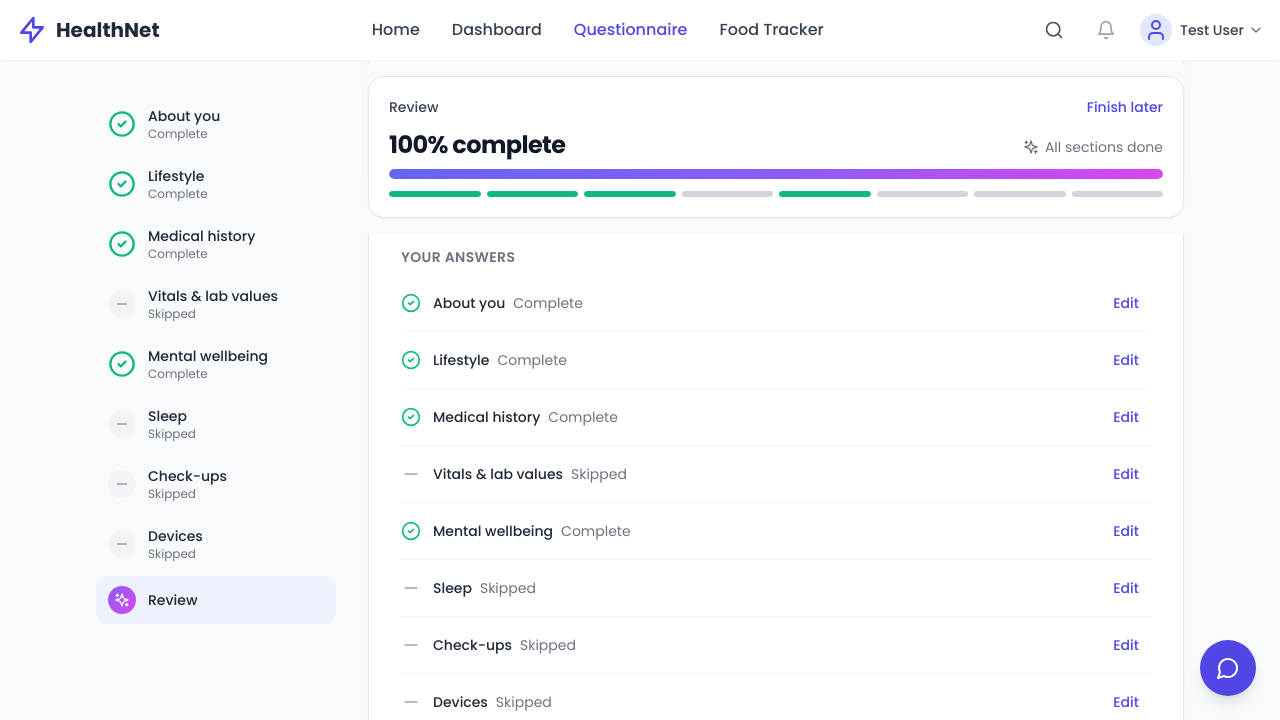
Test: finished questionnaires open on the review step
(page scrolled)
Expected: the text "100% complete" is shown, [389,129,565,161]
What coordinates should you click on to do the following:
click the button with aria-label "Edit: Lifestyle"
I would click on:
 (1126, 360)
Its box is [1101,344,1151,376].
(page scrolled)
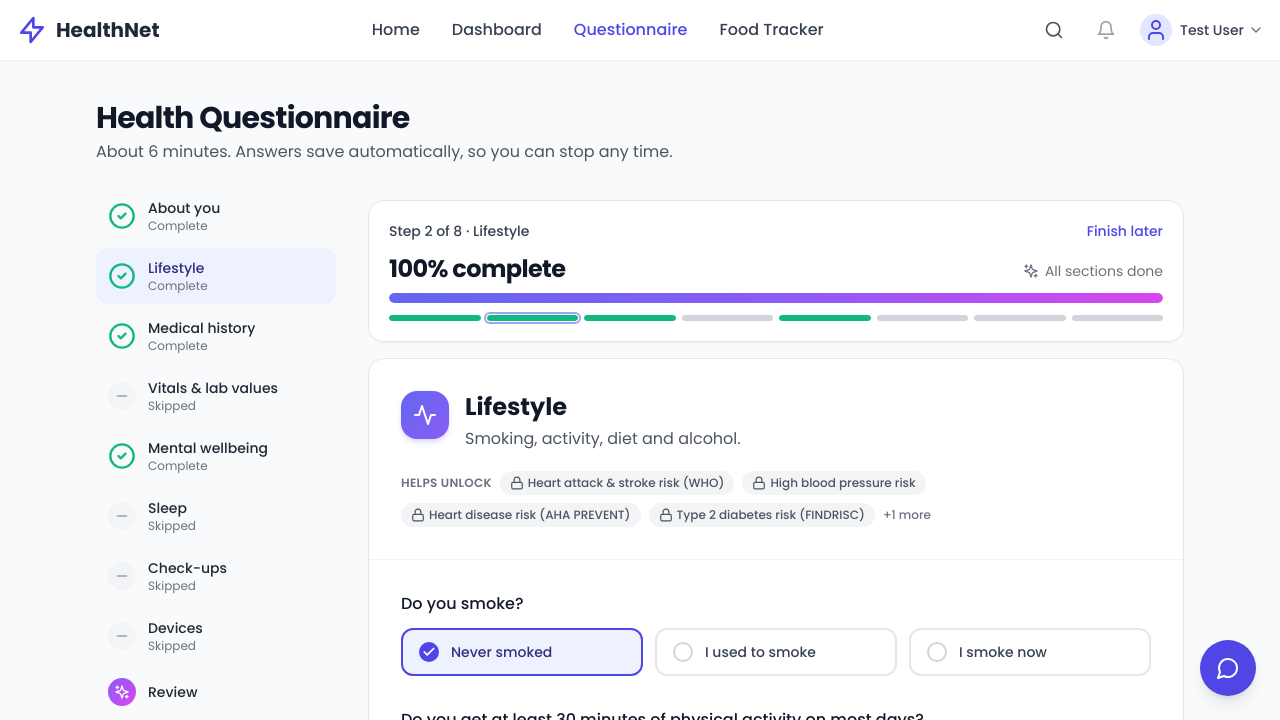
Result: the heading "Lifestyle" is shown at [465,391,567,423]
